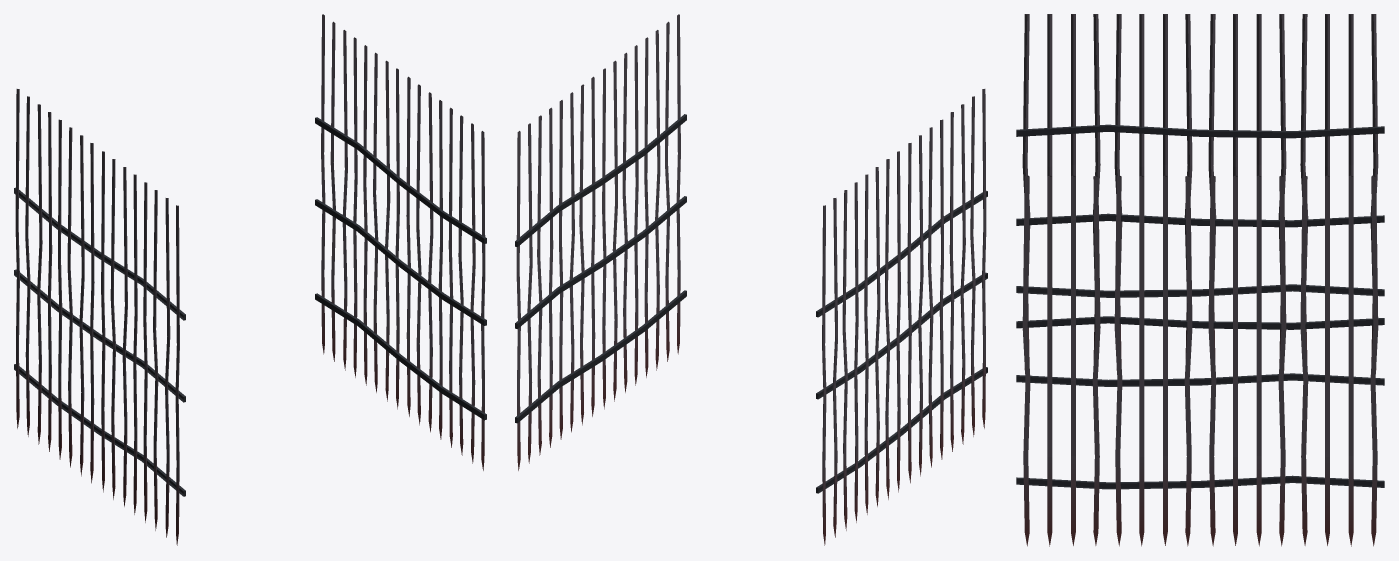
The model's file is Scorpion_Gate.fbx.
3 renders of one model, left to right at view 1: azimuth 30°, elevation 25°; view 2: azimuth 150°, elevation 25°; view 3: azimuth 270°, elevation 25°, orthographic. The views are drawn at different scales.
Parts seen in each view (by area): view 1: Scorpion_Gate; view 2: Scorpion_Gate; view 3: Scorpion_Gate.
Part boxes in pixels (box(x1,y1,x2,y2)): Scorpion_Gate: box(14, 14, 486, 545); Scorpion_Gate: box(515, 14, 987, 545); Scorpion_Gate: box(1016, 14, 1384, 546).
Size of the model in its own units: 11.87 by 12.48 by 11.25.
